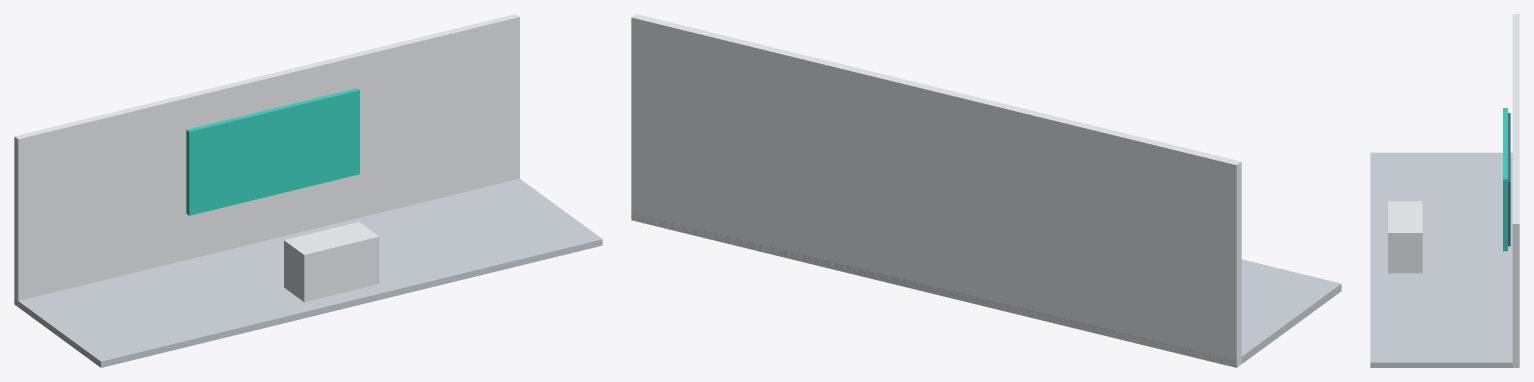
3 views of the same model, side by side, from view 1: azimuth 30°, elevation 25°; view 2: azimuth 150°, elevation 25°; view 3: azimuth 270°, elevation 25° (orthographic). The views are drawn at different scales.
Visible parts, largest first — view 1: Exhibition Booth Concept; view 2: Exhibition Booth Concept; view 3: Exhibition Booth Concept.
Part boxes in pixels (bbox=[...]): Exhibition Booth Concept: bbox=[14, 14, 602, 367]; Exhibition Booth Concept: bbox=[631, 14, 1341, 367]; Exhibition Booth Concept: bbox=[1370, 14, 1519, 367].
Size of the model in its own units: 10 by 3.2 by 3.
